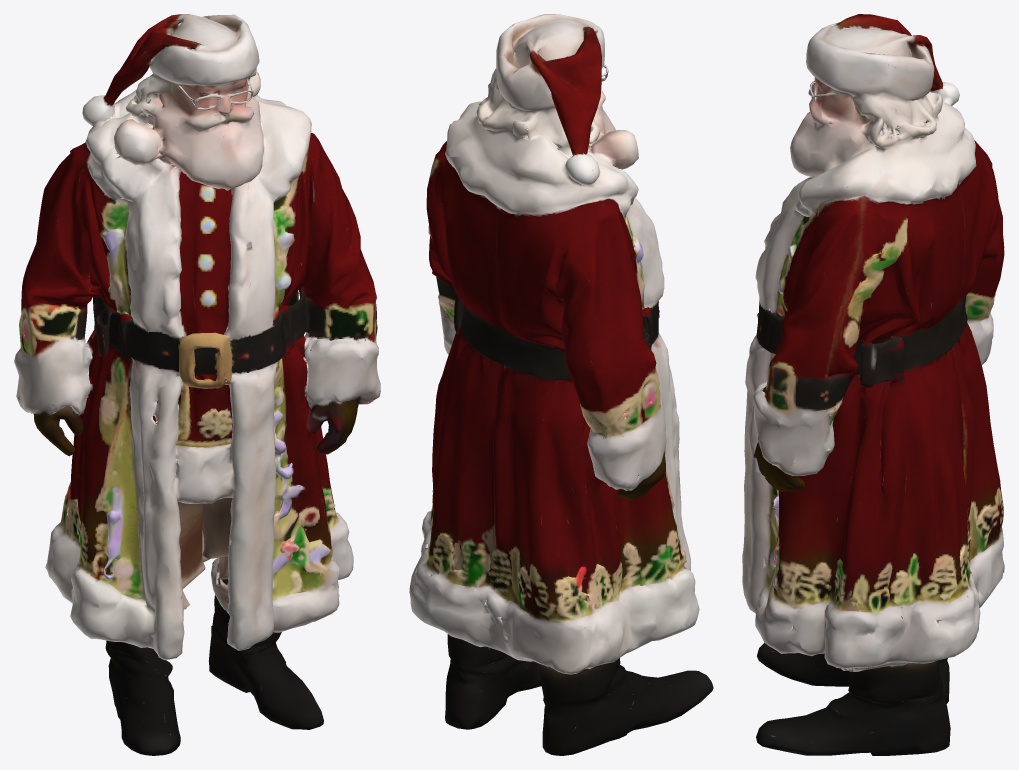
Rendered from np-3d-santa.glb.
3 views of the same model, side by side, from view 1: azimuth 30°, elevation 25°; view 2: azimuth 150°, elevation 25°; view 3: azimuth 270°, elevation 25° (orthographic).
Bounding box in the file's own units: 0.4211 × 0.9857 × 0.3405.
1 material, 1 textured.
